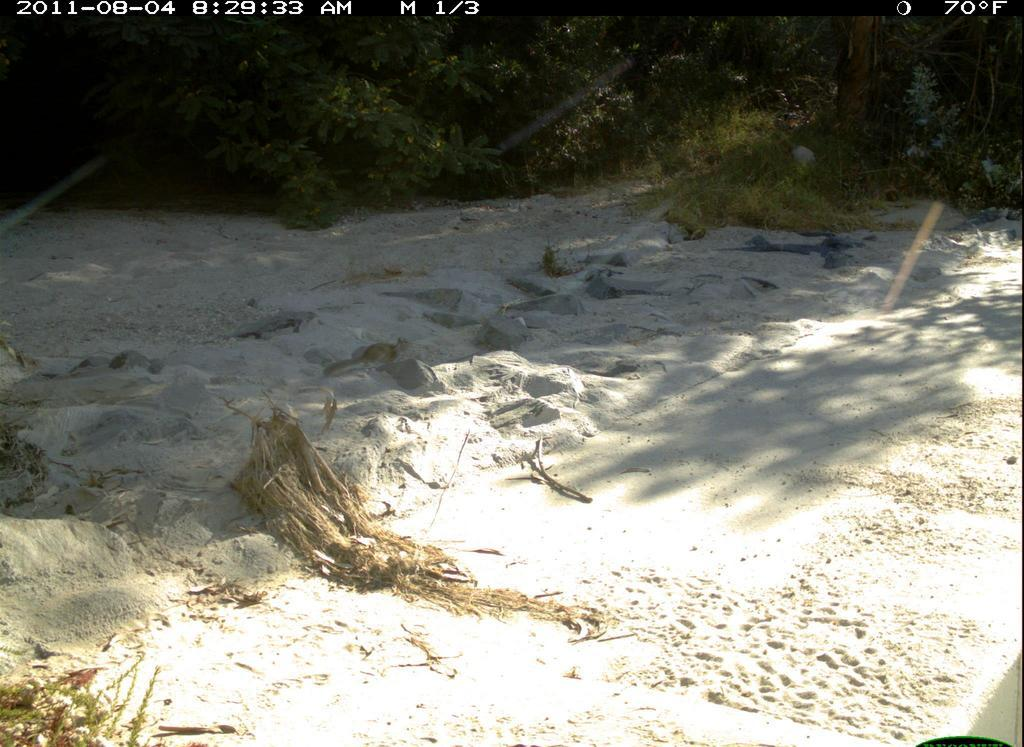squirrel: (314, 329, 420, 387)
